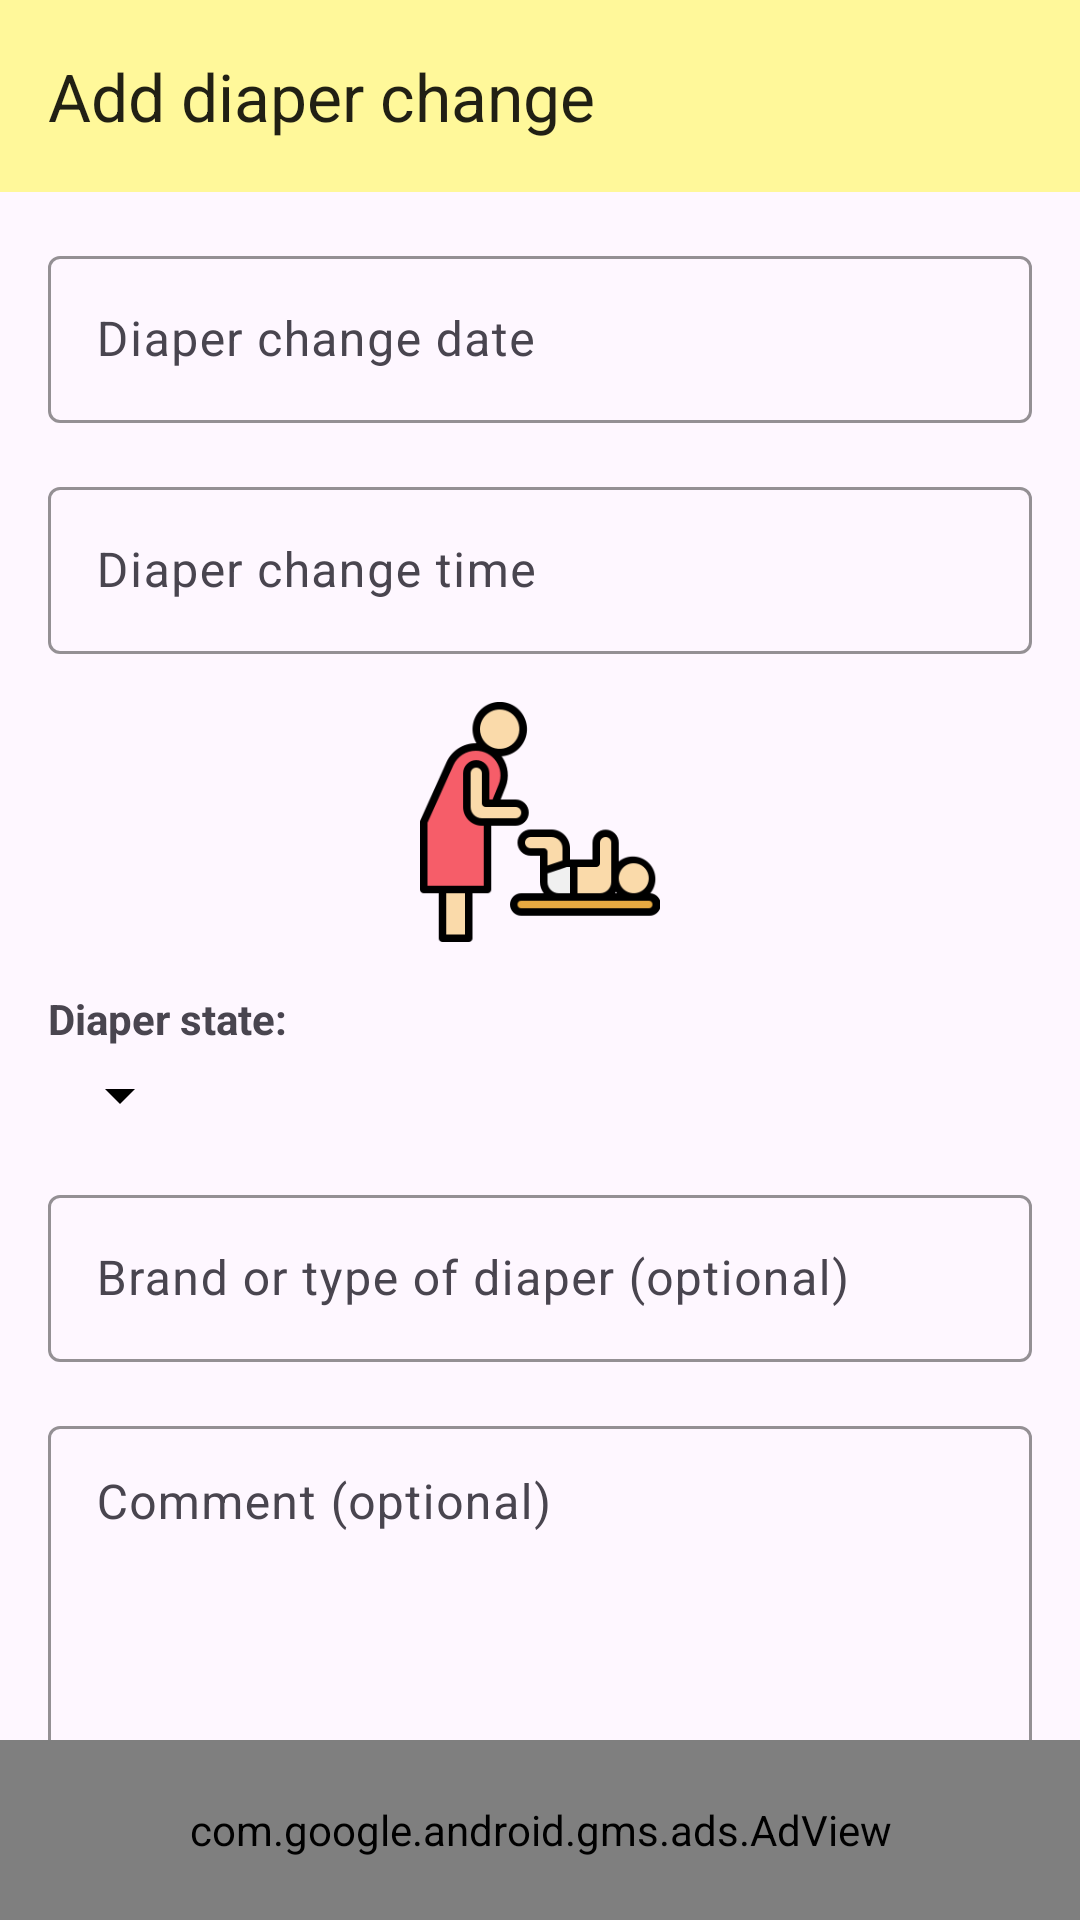

Locate icon controls on the screen. Image size 1080 x 1920, boxes as (x1, y1, x2, y2).
baby diaper change: (420, 702, 660, 942)
